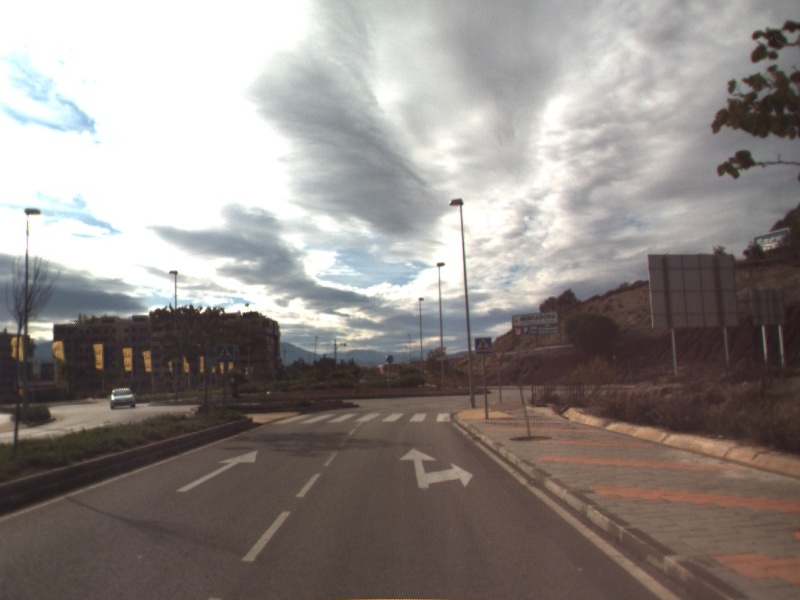STRAIGHT: (174, 448, 259, 494)
STRAIGHT_RIGHT: (397, 445, 475, 490)
